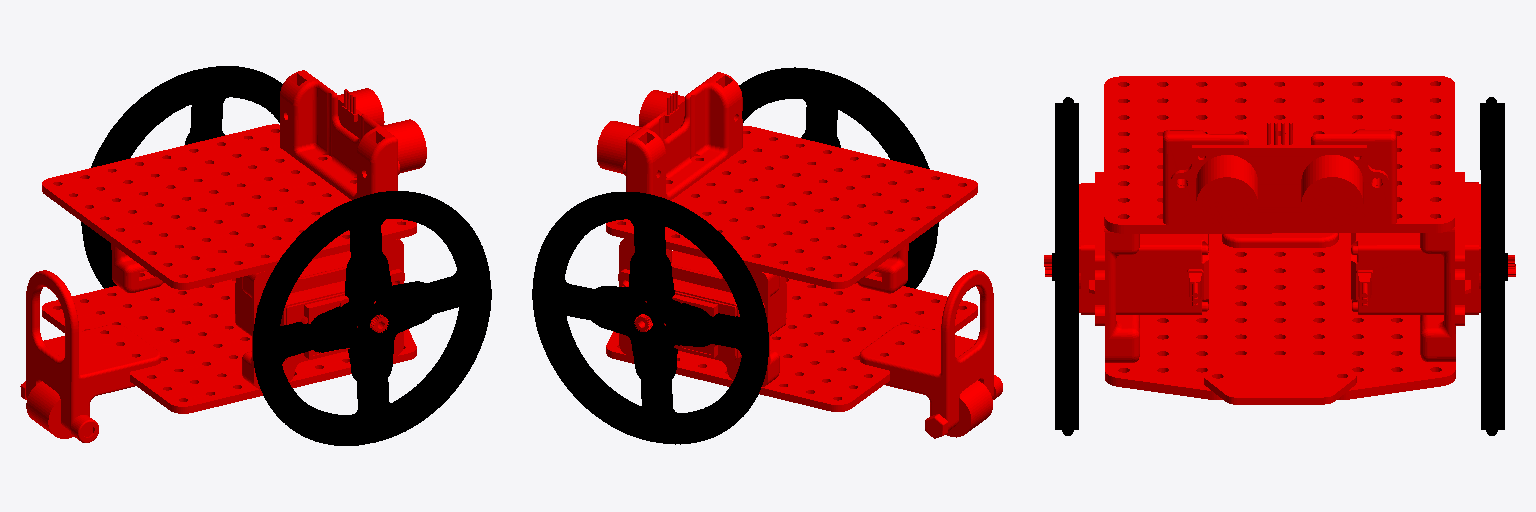
URDF robot description (mybot):
<!-- description of the CamBot robot, a robotics project for the UVic-UCC master in robotics first term -->
<robot name = "mybot">

	<!-- BASE-FOOTPRINT -->
	<!-- base_footprint is a fictitious link(frame) that is on the ground right below base_link origin, navigation stack depends on this frame -->
	<link name = "base_footprint"/>

	<joint name = "base_footprint_joint" type = "fixed">
		<parent link = "base_footprint"/>
		<child link = "base_link"/>
		<origin xyz = "0 0 0" rpy = "0 0 0"/>
	</joint>

	<!-- BASE-LINK -->
    <!--Actual body/chassis of the robot-->
	<link name = "base_link">
		<visual>
			<origin xyz = "0 0 0.038" rpy = "0 0 -1.57"/>
			<geometry>
				<mesh filename = "package://mybot_description/meshes/mybot_base.stl"/>
			</geometry>
			<material name = "mybot/red">
				<color rgba = "1.0 0.0 0.0 1.0"/>
			</material>
		</visual>
	</link>

	<joint name = "base_to_right_wheel" type = "continuous">
		<parent link = "base_link"/>
		<child link = "right_wheel_link"/>
		<origin xyz = "0.023 -0.050 0.041" rpy = "1.57 0 0"/>
		<axis xyz = "0 0 1"/>
	</joint>

	<joint name = "base_to_left_wheel" type = "continuous">
		<parent link = "base_link"/>
		<child link = "left_wheel_link"/>
		<origin xyz = "0.023 0.050 0.041" rpy = "-1.57 0 0"/>
		<axis xyz = "0 0 1"/>
	</joint>

	<joint name = "base_to_ultrasound" type = "fixed">
		<parent link = "base_link"/>
		<child link = "ultrasound_link"/>
		<origin xyz = "0.06 0 0.08" rpy = "0 0 0"/>
	</joint>
	<link name="ultrasound_link"/>

	<!-- WHEEL-LINKS -->
    <!--Actual wheels of the robot-->
	<link name = "left_wheel_link">
		<visual>
			<origin xyz = "0 0 0.005" rpy = "0 1.57 0" />
			<geometry>
				<mesh filename = "package://mybot_description/meshes/mybot_wheel.stl" />
			</geometry>
			<material name = "cambot/black">
				<color rgba = "0.0 0.0 0.0 1.0" />
			</material>
		</visual>
	</link>

	<link name = "right_wheel_link">
		<visual>
			<origin xyz = "0 0 0.005" rpy = "0 1.57 0" />
			<geometry>
				<mesh filename = "package://mybot_description/meshes/mybot_wheel.stl" />
			</geometry>
			<material name = "cambot/black">
				<color rgba = "0.0 0.0 0.0 1.0" />
			</material>
		</visual>
	</link>
</robot>

--- What the picture shows (computed from the rendered views, not written in the file) ---
Views: 3 orthographic renders of the robot side by side, from view 1: azimuth 30°, elevation 25°; view 2: azimuth 150°, elevation 25°; view 3: azimuth 270°, elevation 25°.
Model mybot with 5 links and 4 joints (2 continuous, 2 fixed), rooted at base_footprint, posed every joint at zero.
Links seen in each view (by area): view 1: base_link, right_wheel_link, left_wheel_link; view 2: base_link, left_wheel_link, right_wheel_link; view 3: base_link, left_wheel_link, right_wheel_link.
Boxes of the visible links, left/top/right/bottom form: base_link: left=20, top=70, right=426, bottom=442; right_wheel_link: left=253, top=191, right=491, bottom=445; left_wheel_link: left=81, top=66, right=282, bottom=288; base_link: left=597, top=72, right=1002, bottom=438; left_wheel_link: left=532, top=192, right=768, bottom=444; right_wheel_link: left=739, top=67, right=938, bottom=288; base_link: left=1044, top=76, right=1515, bottom=404; left_wheel_link: left=1480, top=97, right=1507, bottom=435; right_wheel_link: left=1052, top=97, right=1078, bottom=435.
Bounding box of the posed robot: 0.1349 × 0.1209 × 0.0952 m (x, y, z).
3 mesh visuals loaded from 2 distinct referenced files (2 binary STL).